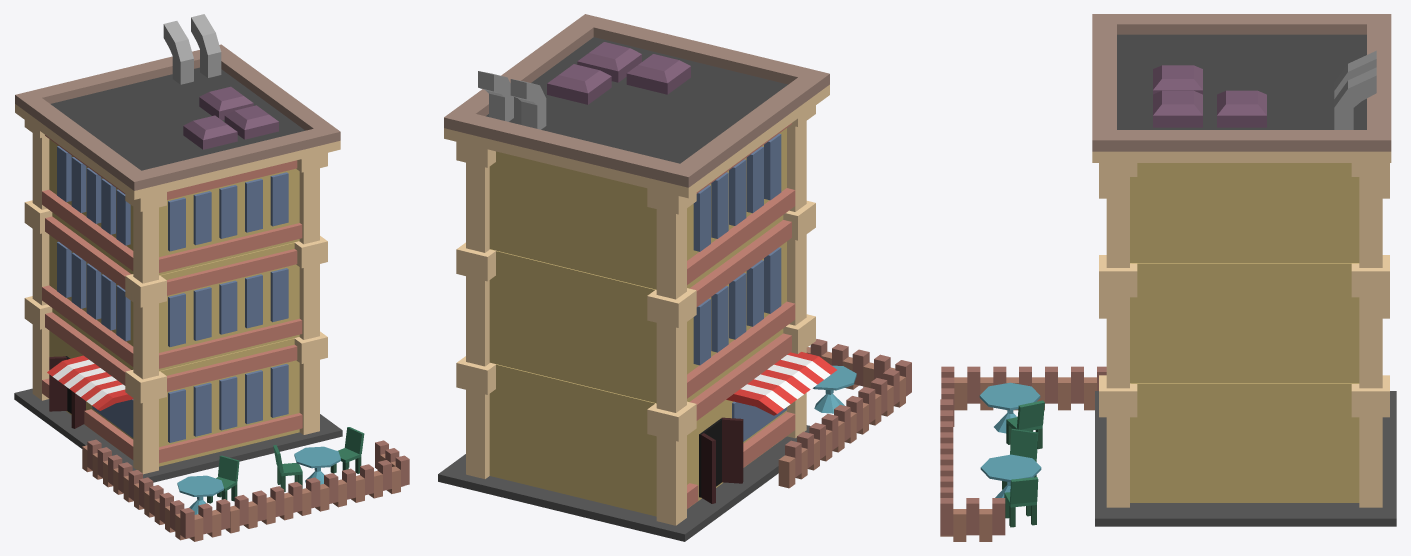
File: block5.fbx
3 renders of one model, left to right at view 1: azimuth 30°, elevation 25°; view 2: azimuth 150°, elevation 25°; view 3: azimuth 270°, elevation 25°, orthographic. The views are drawn at different scales.
Visible parts, largest first — view 1: Cube.002, Cube.001, Cube, Cube.004, Cube.003; view 2: Cube.002, Cube, Cube.001, Cube.004, Cube.003; view 3: Cube.002, Cube.001, Cube, Cube.004, Cube.003.
Part boxes in pixels (box(x1,y1,x2,y2)): Cube.002: box(15, 14, 340, 283); Cube.001: box(24, 200, 327, 379); Cube: box(24, 296, 327, 474); Cube.004: box(82, 427, 409, 541); Cube.003: box(14, 388, 342, 482); Cube.002: box(444, 14, 829, 299); Cube: box(456, 314, 836, 525); Cube.001: box(456, 201, 815, 412); Cube.004: box(778, 339, 911, 488); Cube.003: box(438, 425, 810, 541); Cube.002: box(1092, 14, 1391, 267); Cube.001: box(1099, 177, 1389, 388); Cube: box(1099, 297, 1389, 507); Cube.004: box(940, 366, 1106, 541); Cube.003: box(1095, 391, 1396, 526).
Size of the model in its own units: 291 by 419 by 387.
